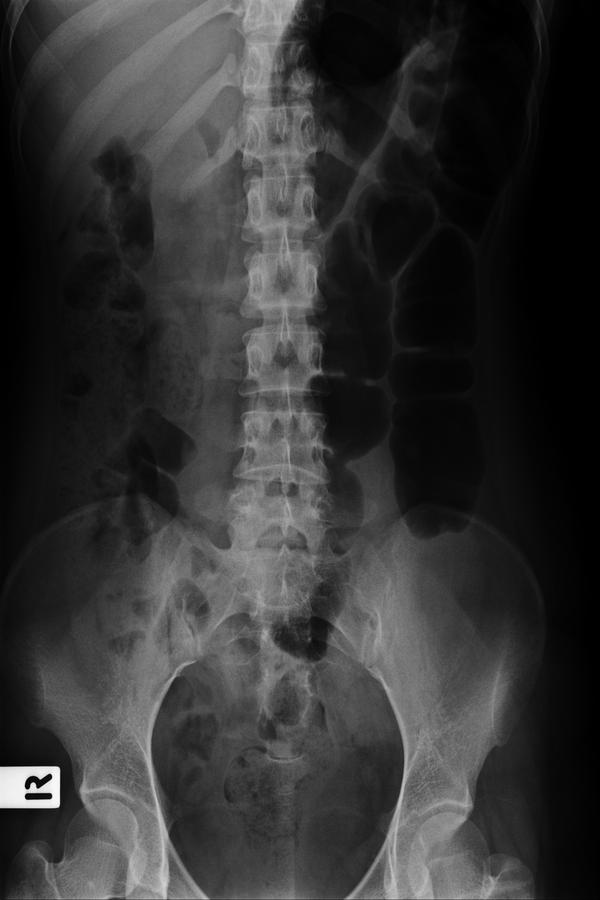lumbar scoliosis: (223, 11, 331, 591)
